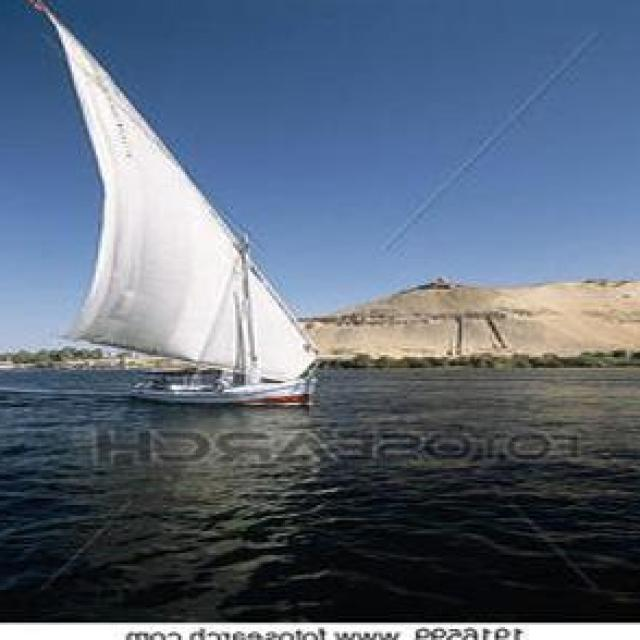passenger ship: (5, 23, 346, 420)
